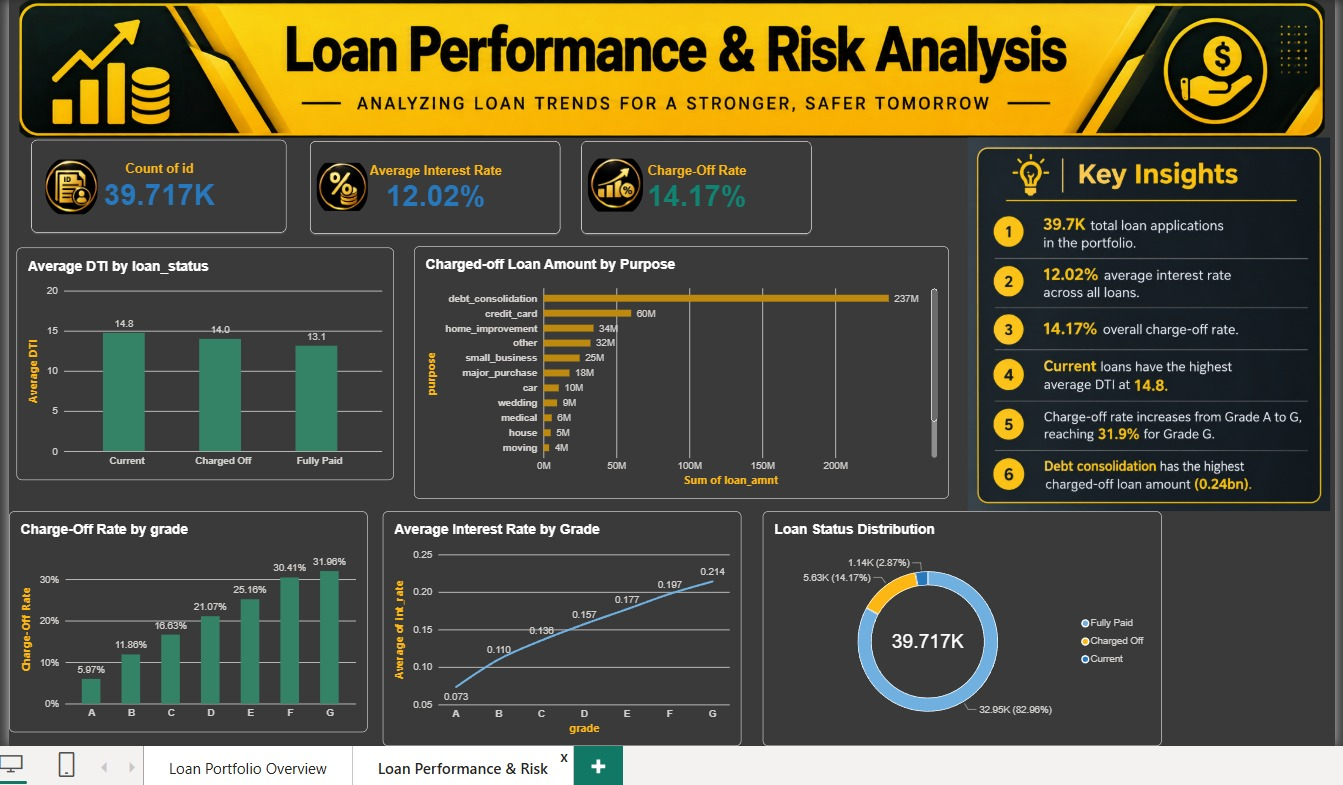

The dashboard page shown, as its layout file describes it:
{"tool":"powerbi","page":{"name":"Loan Performance & Risk","canvas":[1920,1080],"ordinal":1},"visuals":[{"type":"clusteredColumnChart","fields":{"Category":["Finance_1.loan_status"],"Y":["Measures (2).Average DTI"]},"box":[10.9,358.3,546.5,336.6],"z":0},{"type":"clusteredColumnChart","fields":{"Category":["Finance_1.grade"],"Y":["Measures (2).Charge-Off Rate"]},"box":[0,740.2,519.4,320.3],"z":1000},{"type":"donutChart","title":"Loan Status Distribution","fields":{"Category":["Finance_1.loan_status"],"Y":["CountNonNull(Finance_1.loan_status)"]},"box":[1091.2,740.2,577.3,340.2],"z":2000},{"type":"lineChart","title":"Average Interest Rate by Grade","fields":{"Category":["Finance_1.grade"],"Y":["Avg(Finance_1.int_rate)"]},"box":[541.1,740.2,519.4,340.2],"z":3000},{"type":"clusteredBarChart","title":"Charged-off Loan Amount by Purpose","fields":{"Category":["Finance_1.purpose"],"Y":["Sum(Finance_1.loan_amnt)"]},"box":[586.3,356.5,774.5,365.6],"z":4000},{"type":"textbox","box":[51.7,33.2,1708,127.4],"z":5000},{"type":"cardVisual","fields":{"Data":["CountNonNull(Finance_1.id)"]},"box":[29,199.1,376.4,141.2],"z":6000},{"type":"cardVisual","fields":{"Data":["Measures (2).Average Interest Rate"]},"box":[432.5,200.9,369.2,141.2],"z":7000},{"type":"cardVisual","fields":{"Data":["Measures (2).Charge-Off Rate"]},"box":[825.2,200.9,340.2,141.2],"z":8000},{"type":"image","box":[0,0,1920.1,199.1],"z":9000},{"type":"image","box":[837.9,220.8,79.6,94.1],"z":10000},{"type":"image","box":[445.2,226.2,74.2,88.7],"z":11000},{"type":"image","box":[52.5,226.2,76,88.7],"z":12000},{"type":"image","box":[1380.8,199.1,539.3,541.1],"z":12001}]}

Visuals, with their boxes on the page's 1920x1080 design canvas (x1, y1, x2, y2). These are canvas units, not pixel positions in the 1343x785 screenshot, which may show the page scaled, cropped or inside an application window:
clusteredColumnChart - Finance_1.loan_status x Measures (2).Average DTI: (11,358,557,695)
clusteredColumnChart - Finance_1.grade x Measures (2).Charge-Off Rate: (0,740,519,1060)
"Loan Status Distribution" donutChart: (1091,740,1668,1080)
"Average Interest Rate by Grade" lineChart: (541,740,1060,1080)
"Charged-off Loan Amount by Purpose" clusteredBarChart: (586,356,1361,722)
textbox: (52,33,1760,161)
cardVisual - CountNonNull(Finance_1.id): (29,199,405,340)
cardVisual - Measures (2).Average Interest Rate: (432,201,802,342)
cardVisual - Measures (2).Charge-Off Rate: (825,201,1165,342)
image: (0,0,1920,199)
image: (838,221,918,315)
image: (445,226,519,315)
image: (52,226,128,315)
image: (1381,199,1920,740)
